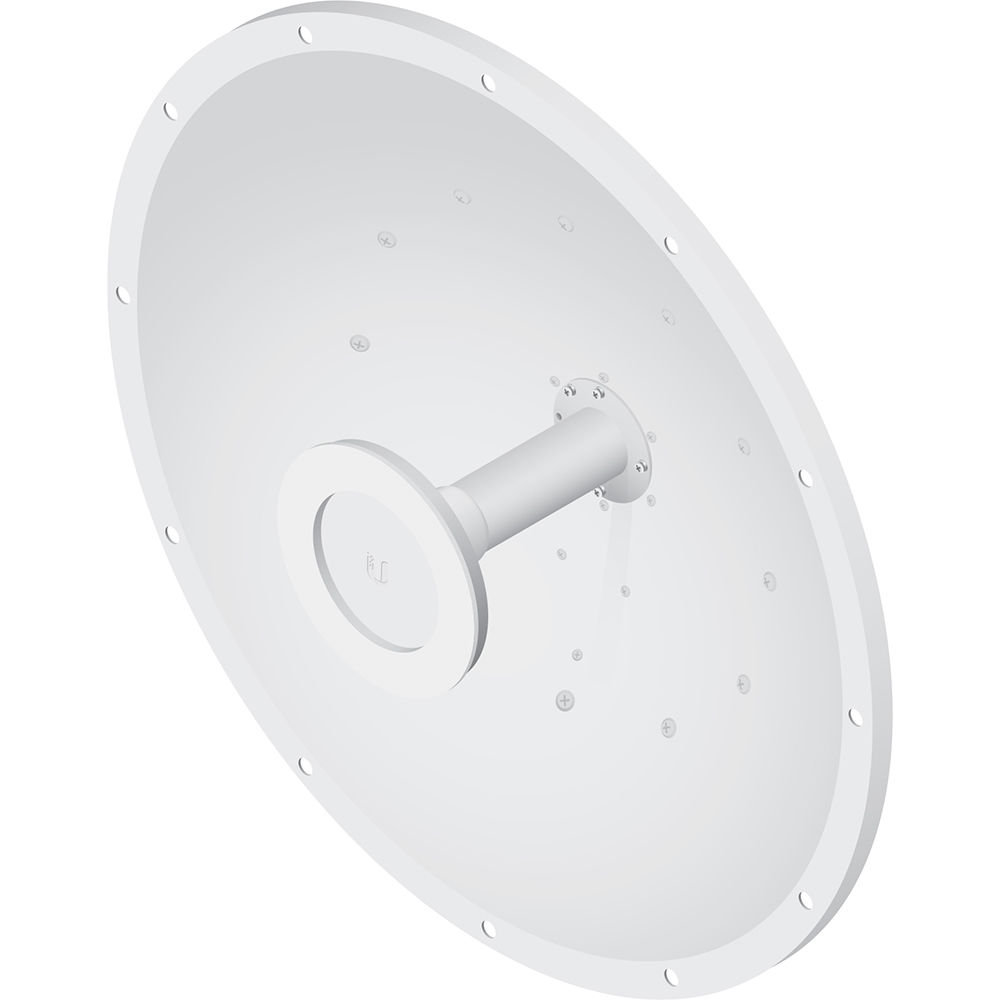ba: (31, 17, 925, 990)
